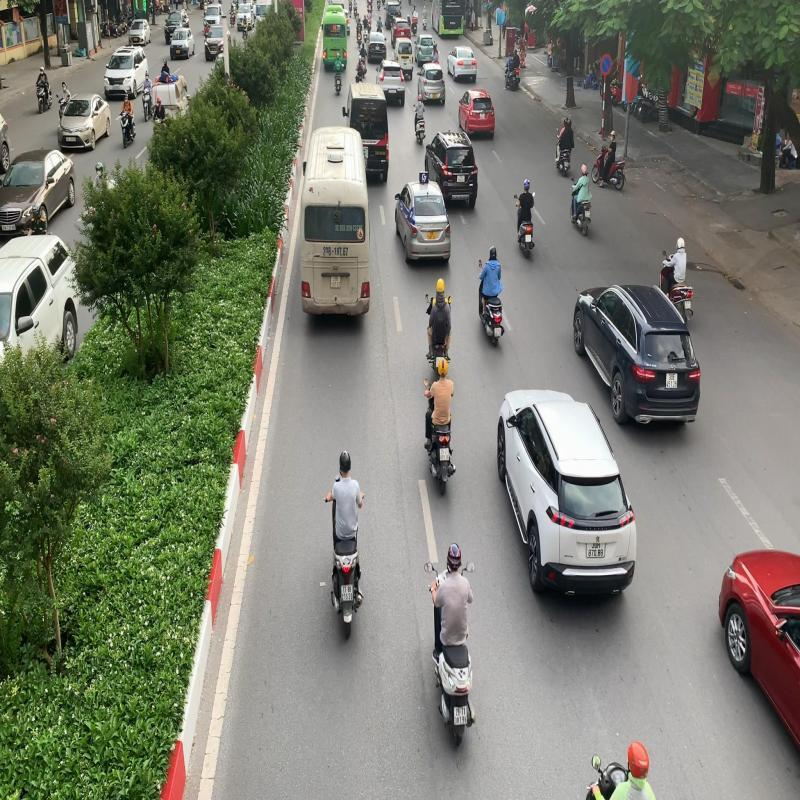helmet: (446, 540, 463, 570), (338, 448, 352, 474)
licenseplate: (454, 704, 469, 726), (340, 583, 355, 603)
motorcyclist: (423, 540, 478, 752), (322, 446, 368, 646)
